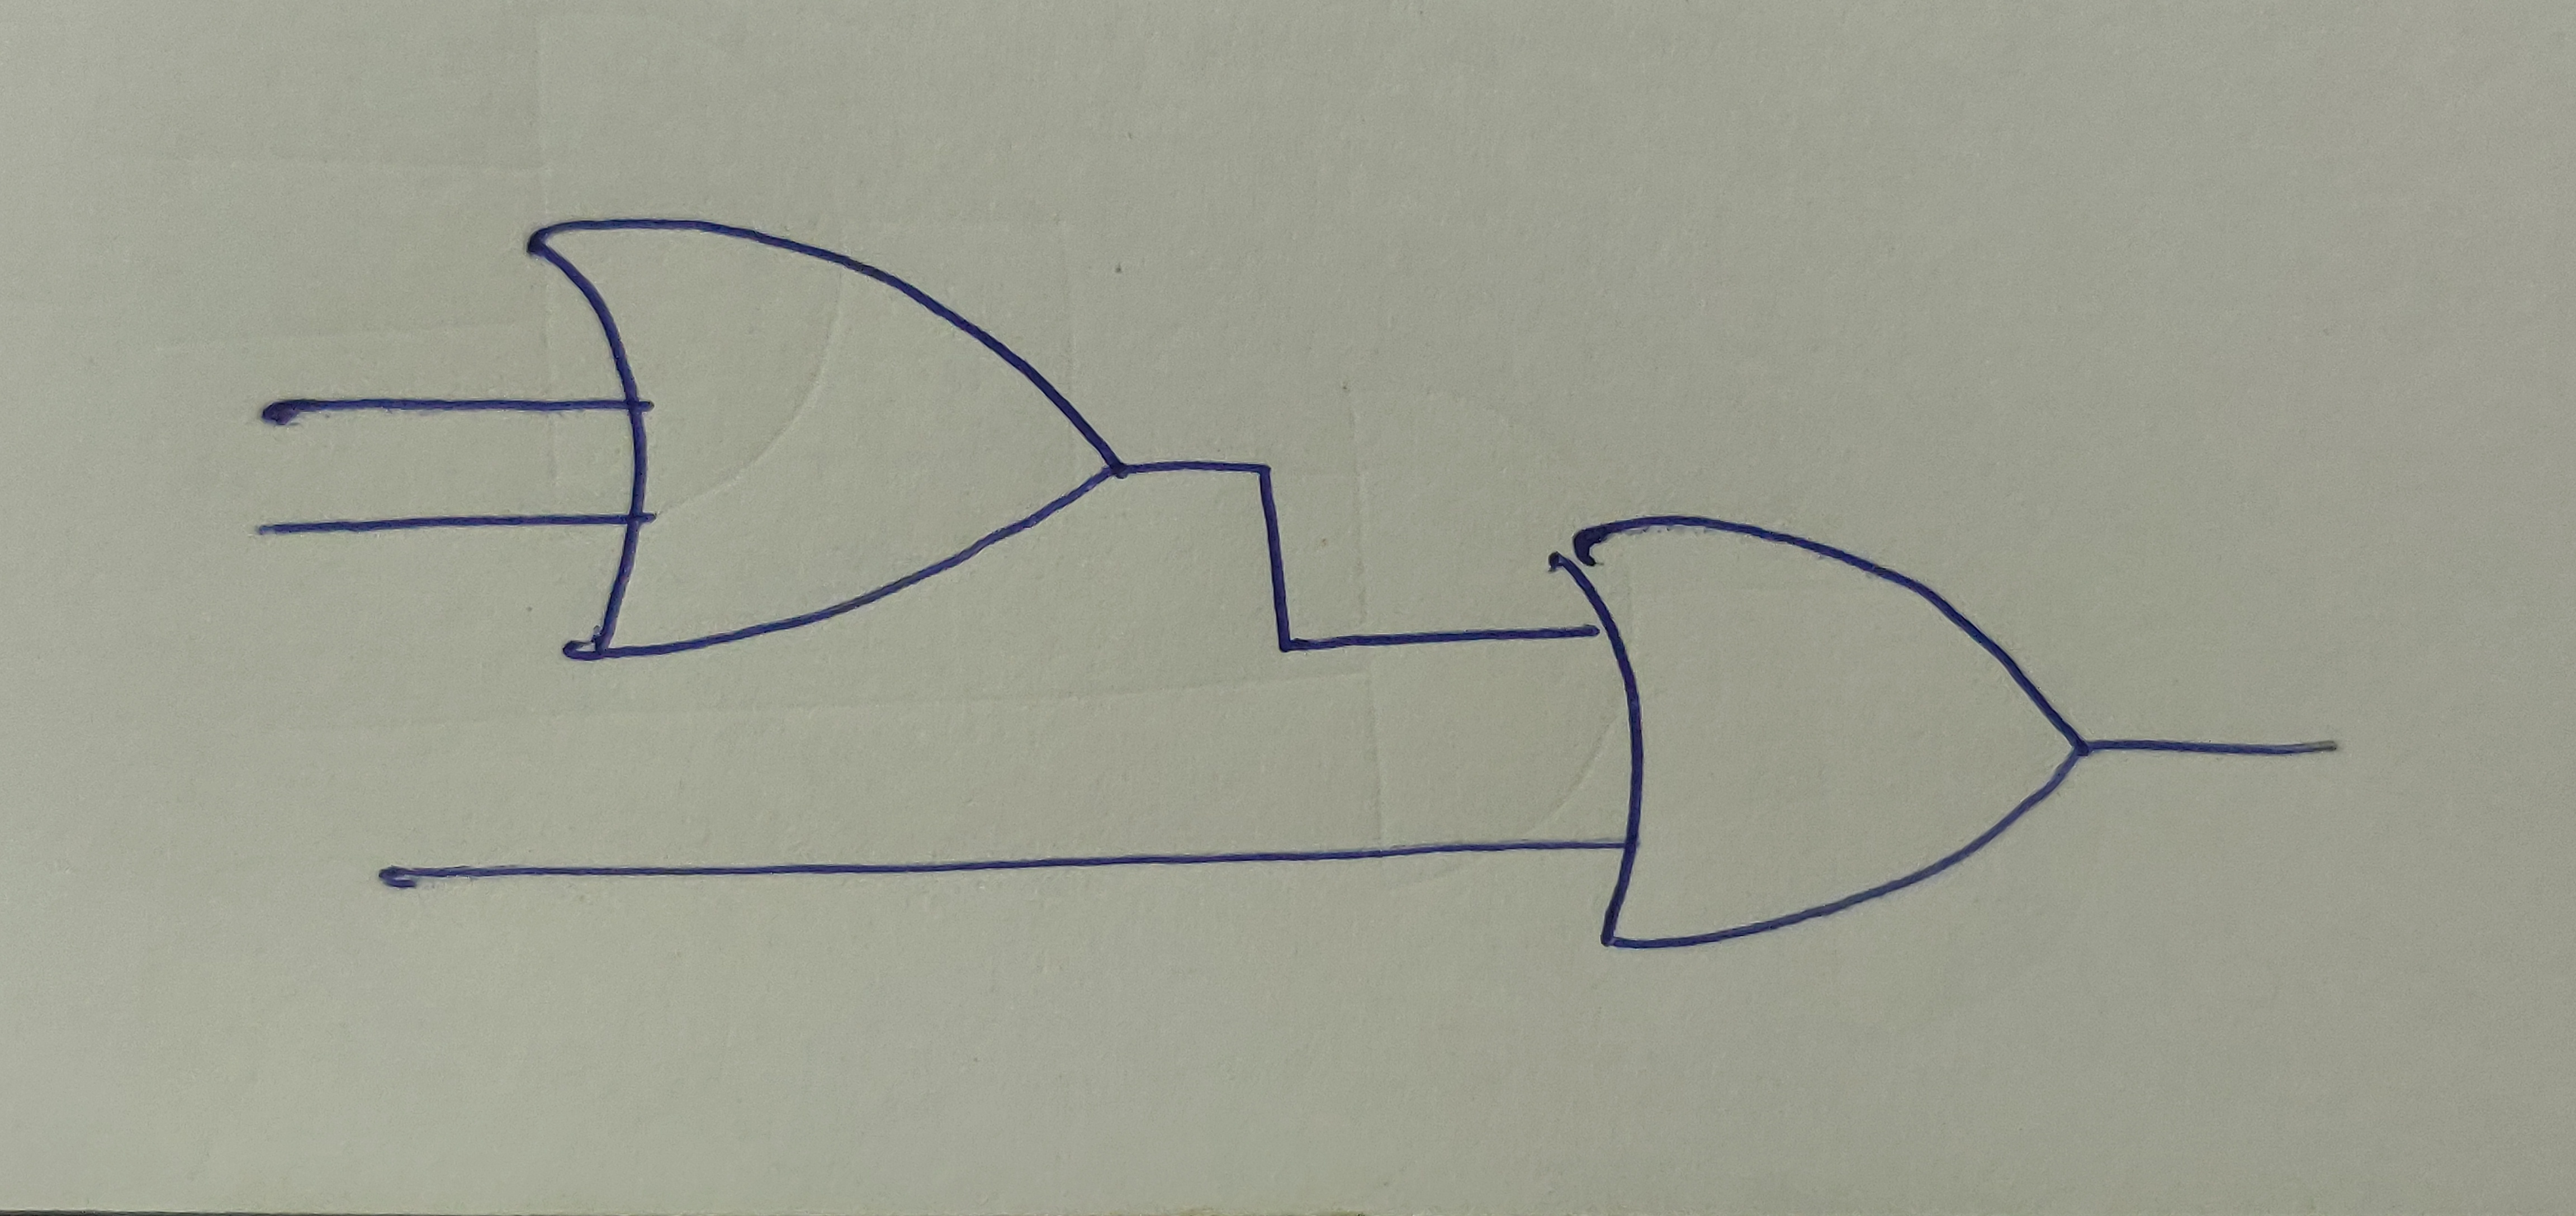or: (509, 219, 1130, 659), (1529, 506, 2085, 955)
